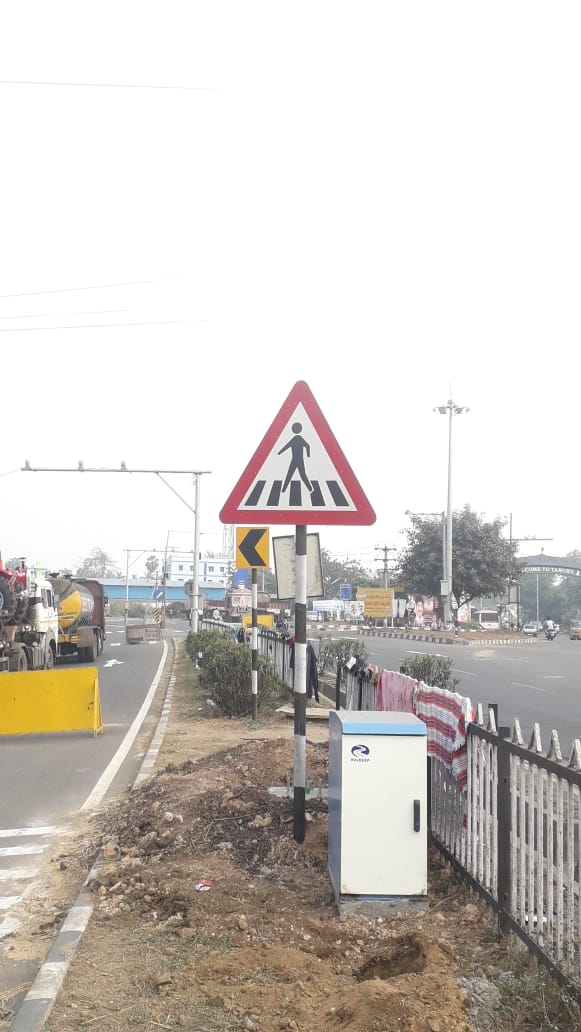pedestrian crossing: (212, 376, 388, 543)
